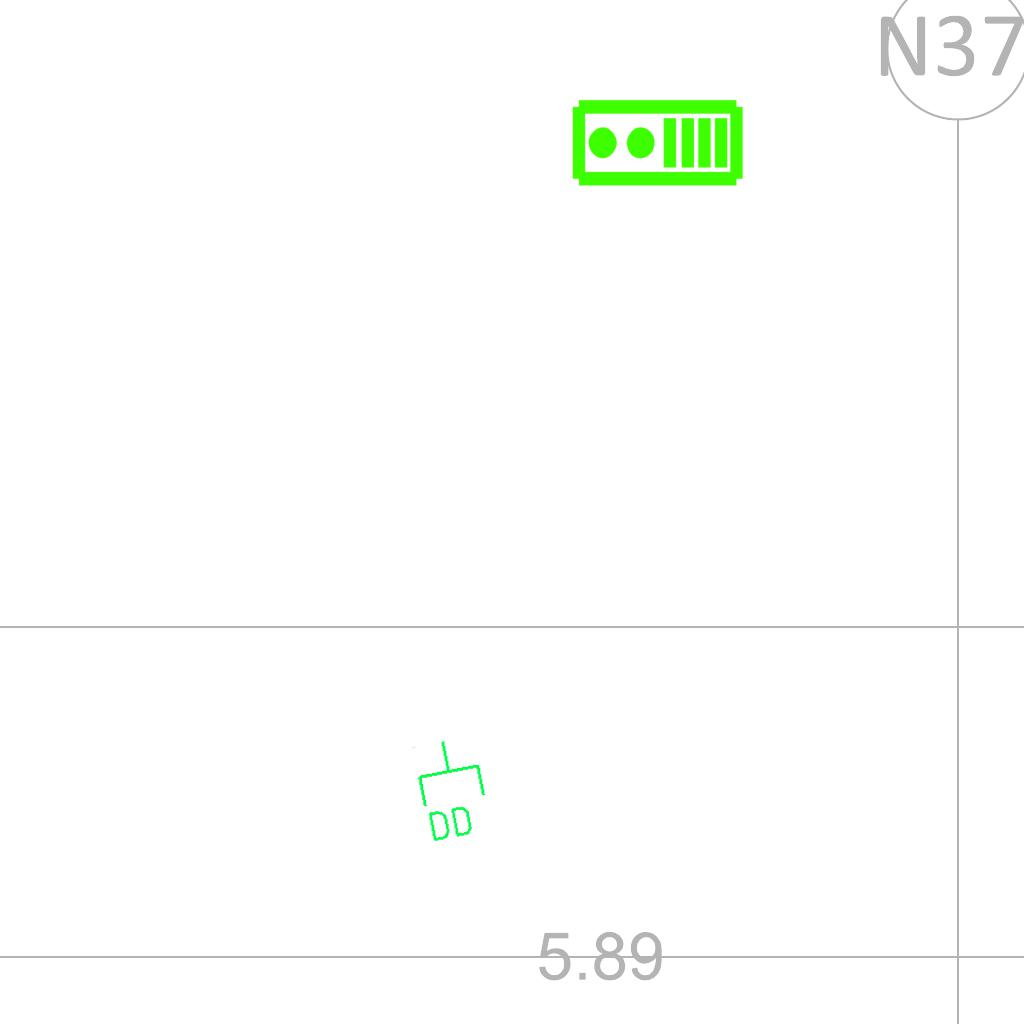Datenanschluss_zweifach: (407, 732, 496, 847)
Gegensprechanlage_mit_Video: (569, 97, 745, 192)
